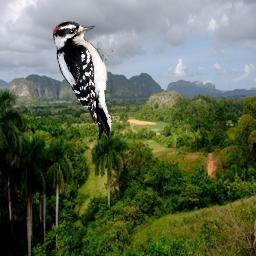Woodpecker: (53, 21, 113, 140)
